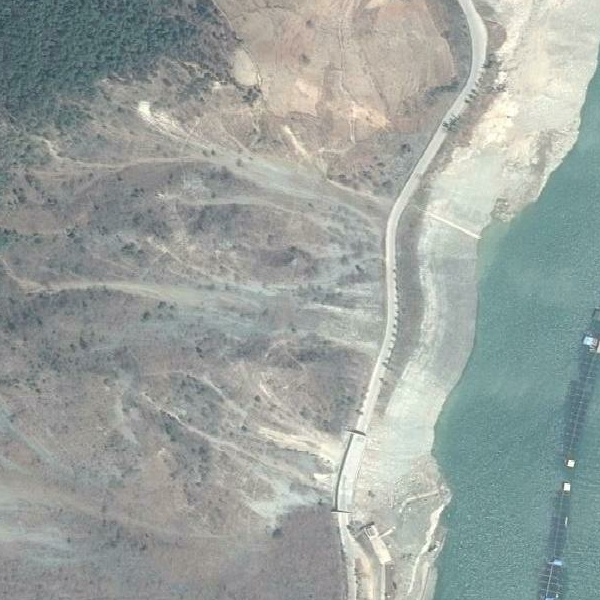slope: (247, 421, 347, 501), (506, 114, 581, 198)
